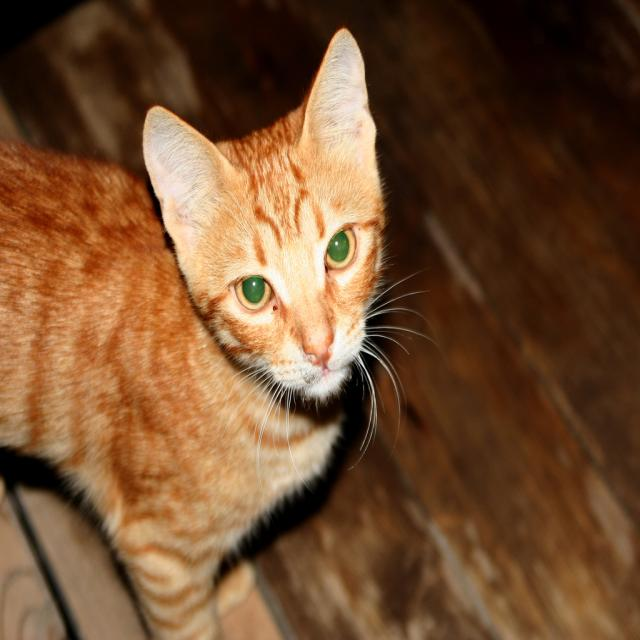Cat: (0, 26, 448, 640)
